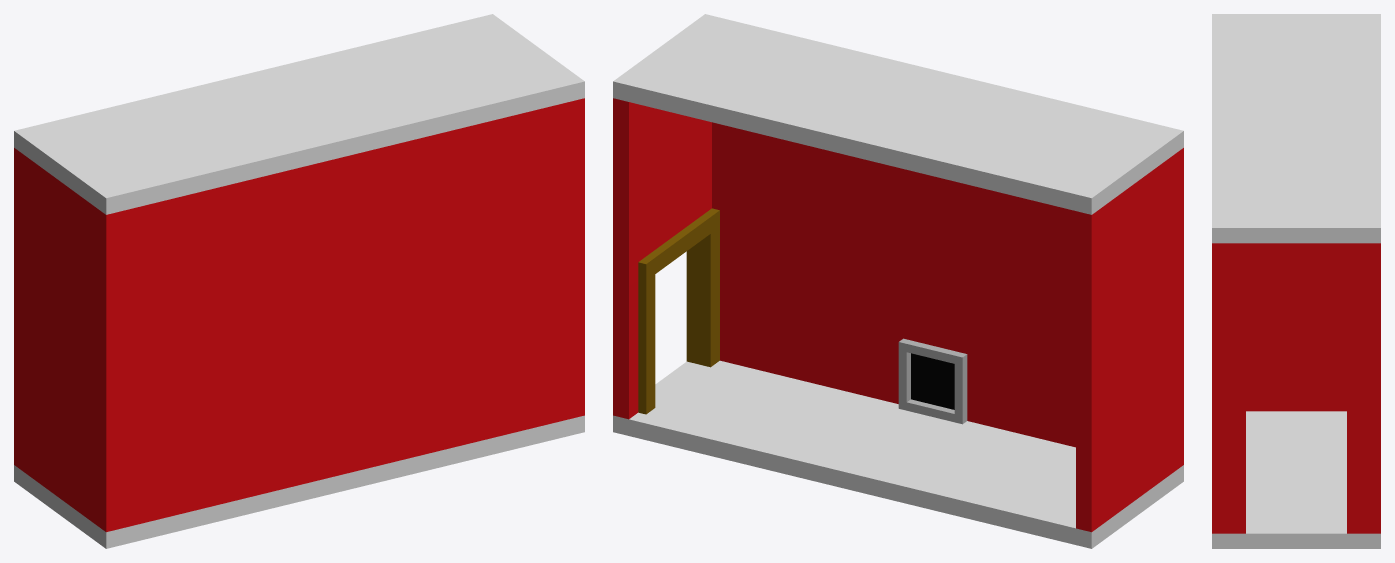
The model's file is Stairs_08_01.fbx.
3 renders of one model, left to right at view 1: azimuth 30°, elevation 25°; view 2: azimuth 150°, elevation 25°; view 3: azimuth 270°, elevation 25°, orthographic. The views are drawn at different scales.
Parts seen in each view (by area): view 1: Stairs_08_01; view 2: Stairs_08_01; view 3: Stairs_08_01.
Boxes of the visible parts, bbox=[...] form: Stairs_08_01: bbox=[14, 14, 584, 548]; Stairs_08_01: bbox=[613, 14, 1183, 548]; Stairs_08_01: bbox=[1212, 14, 1380, 548].
Bounding box in the file's own units: 300 × 210 × 100.
